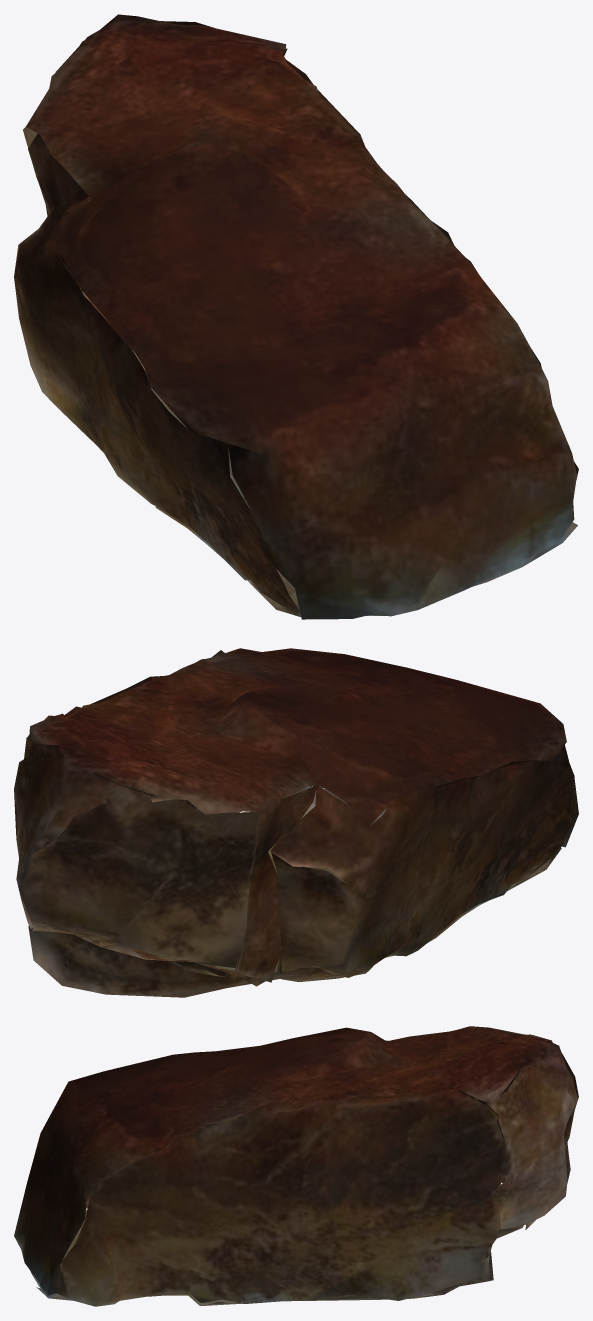
The model's file is rock_07.glb.
3 views of the same model, one above another, from view 1: azimuth 30°, elevation 25°; view 2: azimuth 150°, elevation 25°; view 3: azimuth 270°, elevation 25° (orthographic). The views are drawn at different scales.
Visible parts, largest first — view 1: lod0; view 2: lod0; view 3: lod0.
Part boxes in pixels (x1,y1,x2,y2): lod0: [14, 14, 578, 619]; lod0: [14, 648, 578, 997]; lod0: [14, 1026, 578, 1306].
Size of what is drawn, in the model's own units: 0.1697 by 0.1432 by 0.3215.
Materials: 1 (1 with a texture image).
